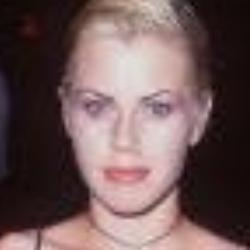face: (26, 3, 230, 216)
